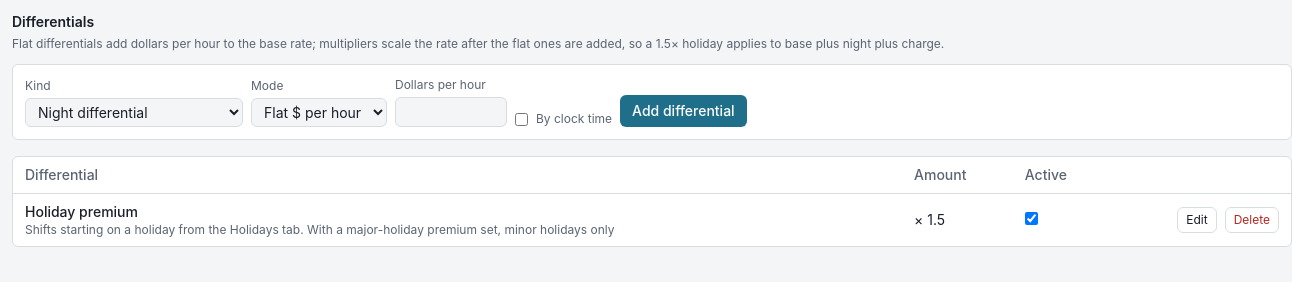
Scenario: clock-time differentials in Settings › Pay › amounts the cost engine can price › does not save a cleared amount as zero when editing
Click the button "Edit" at (1197, 220), box [1177,207,1217,233]
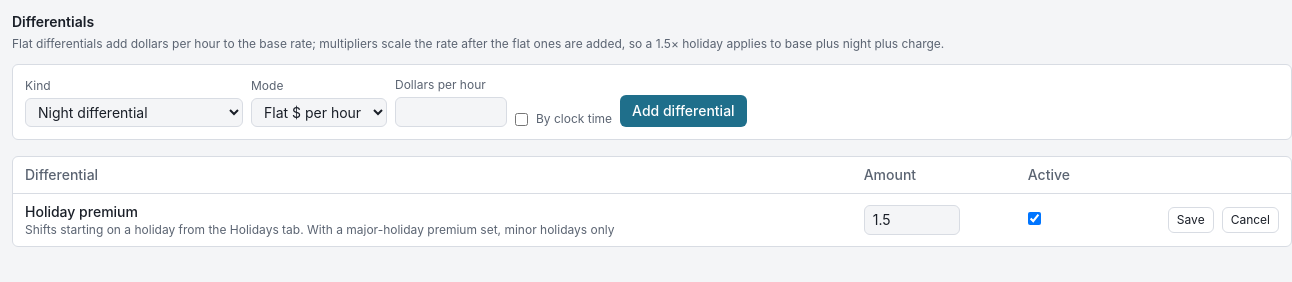
Clear the number field named "Amount" at (912, 220), box [864,205,960,235]
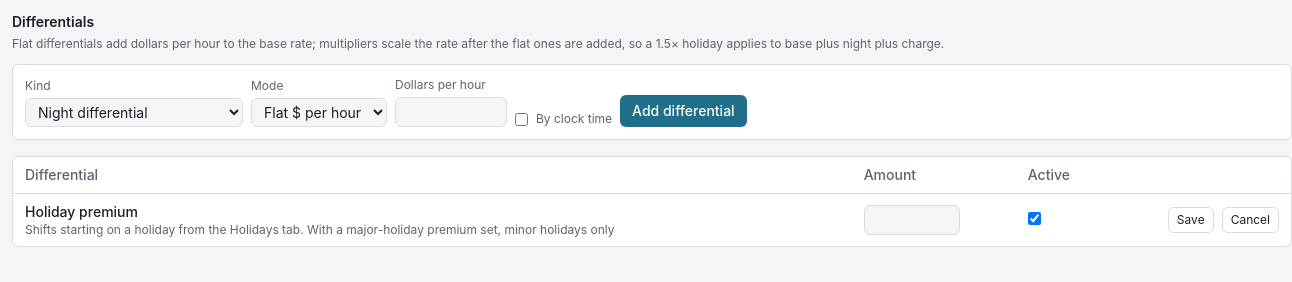
Click the button "Save" at (1191, 220), box [1168,207,1214,233]
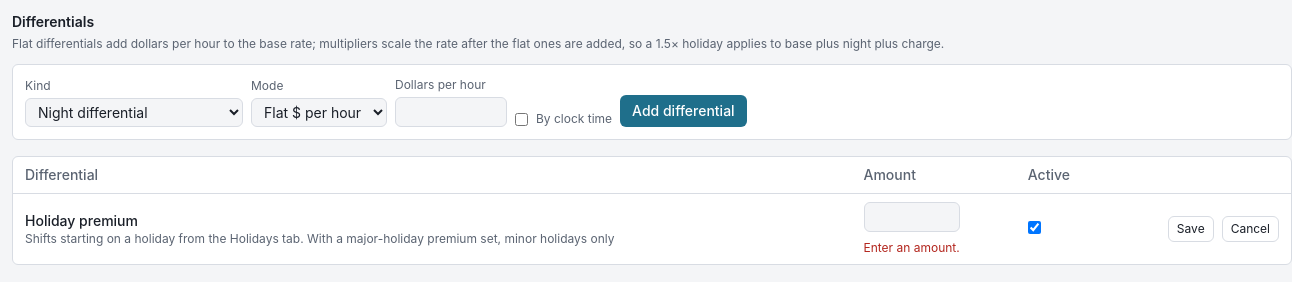
Check: the text "Enter an amount." is shown, box [864,240,960,255]
